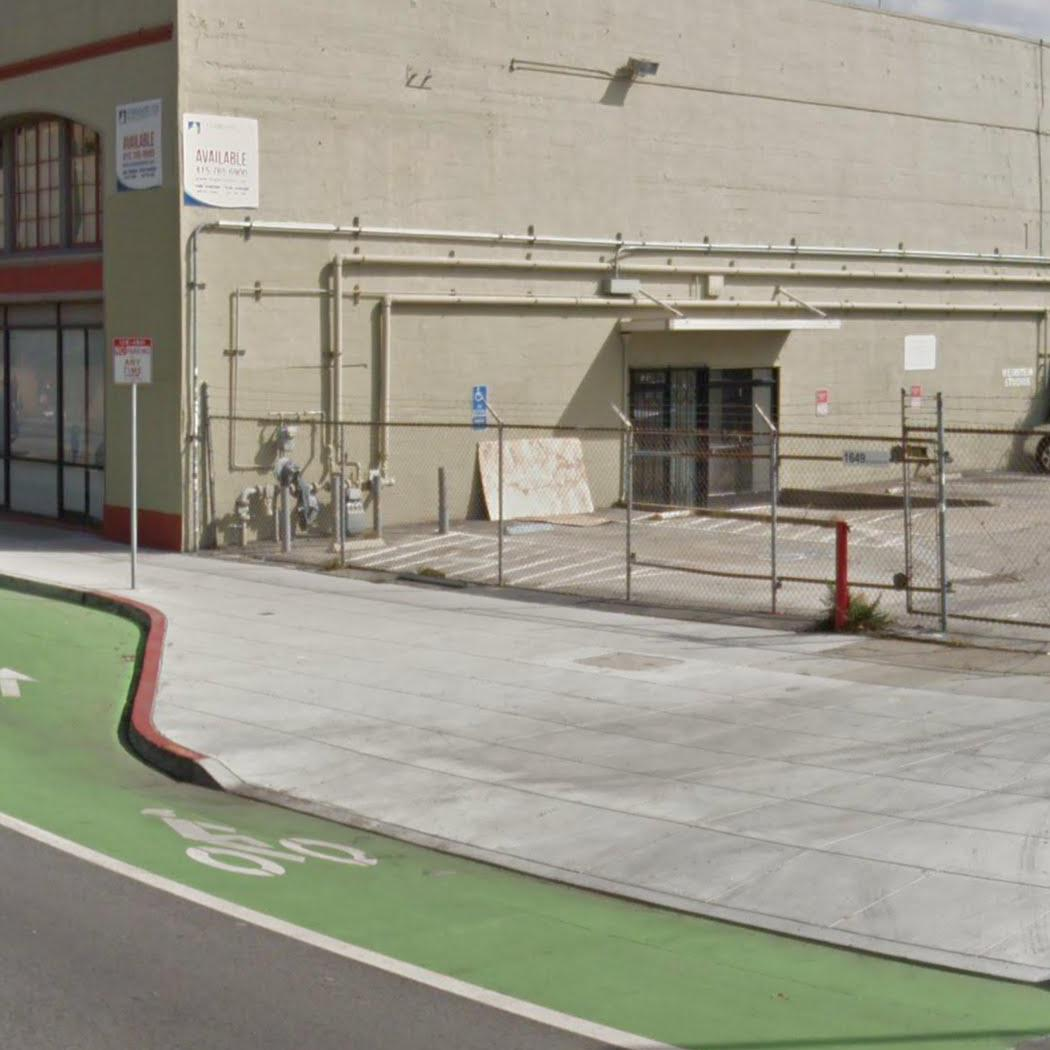No Parking Anytime: (111, 334, 155, 386)
